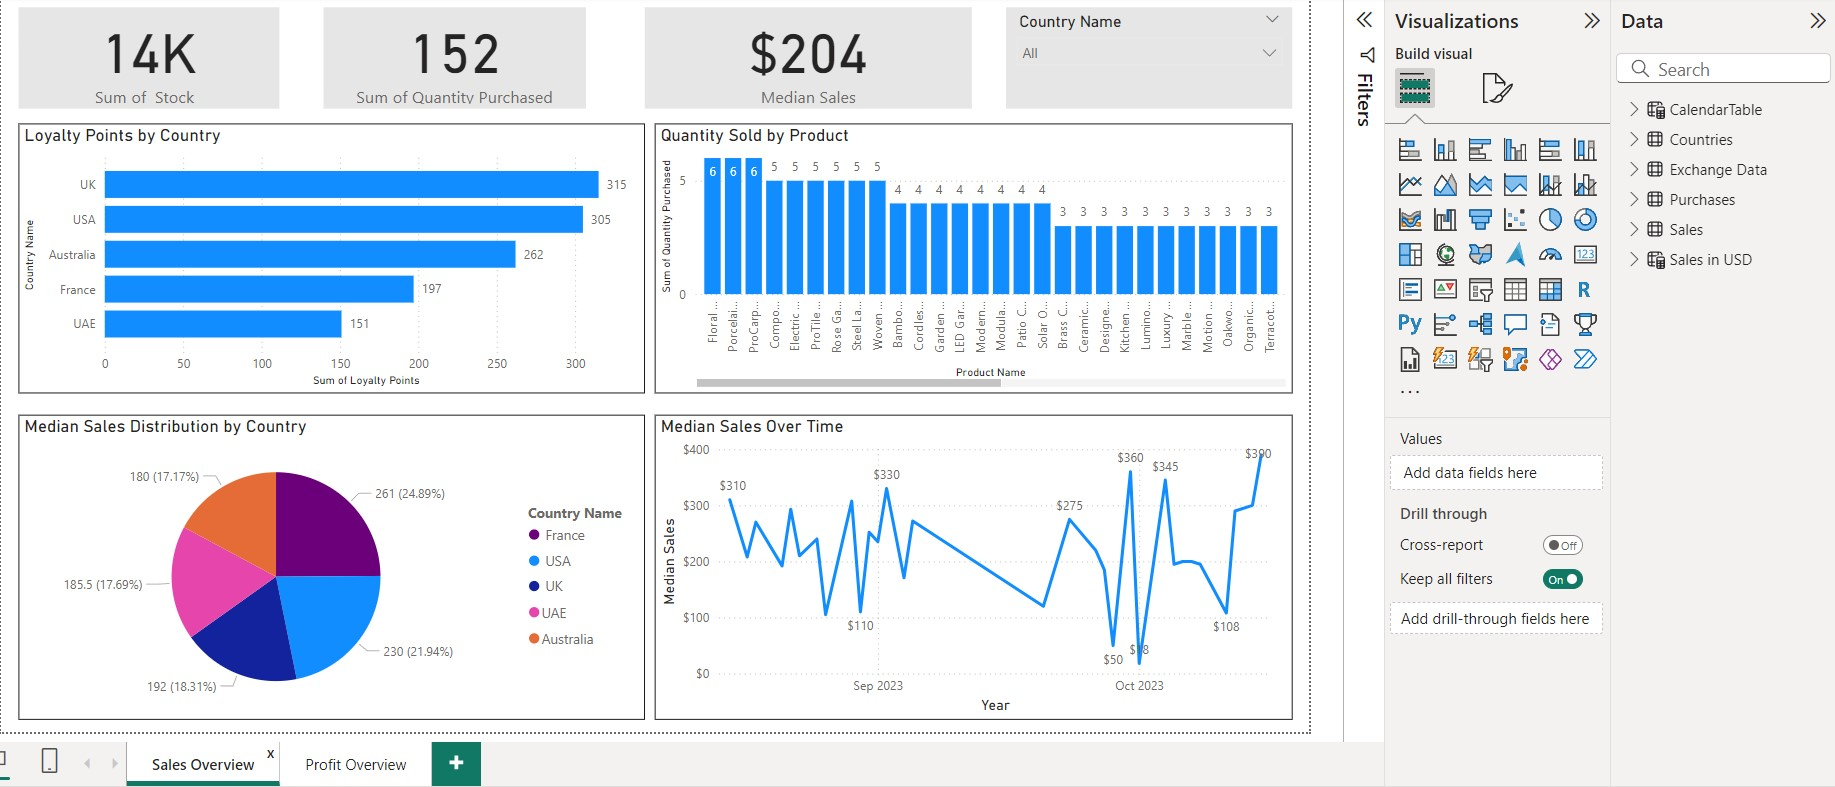

The dashboard page shown, as its layout file describes it:
{"tool":"powerbi","page":{"name":"Sales Overview","canvas":[1280,720],"ordinal":0},"visuals":[{"type":"clusteredBarChart","title":"Loyalty Points by Country","fields":{"Category":["Sales in USD.Country Name"],"Y":["Sum(Sales. Loyalty Points)"]},"box":[17.1,124.7,612.6,264.1],"z":0},{"type":"clusteredColumnChart","title":"Quantity Sold by Product","fields":{"Category":["Sales in USD.Product Name"],"Y":["Sum(Sales.Quantity Purchased)"]},"box":[639.5,124.7,623.6,264.1],"z":1000},{"type":"pieChart","title":"Median Sales Distribution by Country","fields":{"Category":["Sales in USD.Country Name"],"Y":["Sales in USD.Median Sales"]},"box":[17.1,409.6,612.6,298.4],"z":2000},{"type":"lineChart","title":"Median Sales Over Time","fields":{"Y":["Sales in USD.Median Sales"],"Category":["CalendarTable.Date.Variation.Date Hierarchy.Year","CalendarTable.Date.Variation.Date Hierarchy.Quarter","CalendarTable.Date.Variation.Date Hierarchy.Month","CalendarTable.Date.Variation.Date Hierarchy.Day"]},"box":[639.5,409.6,623.6,298.4],"z":3000},{"type":"card","fields":{"Values":["Sum(Sales. Stock  )"]},"box":[17.1,11,255.6,99],"z":4000},{"type":"card","fields":{"Values":["Sum(Sales.Quantity Purchased)"]},"box":[315.5,11,256.8,99],"z":5000},{"type":"card","fields":{"Values":["Sales in USD.Median Sales"]},"box":[629.8,11,320.4,99],"z":6000},{"type":"slicer","fields":{"Values":["Sales in USD.Country Name"]},"box":[983.2,11,280,99],"z":7000}]}

Visuals, with their boxes on the page's 1280x720 design canvas (x1, y1, x2, y2). These are canvas units, not pixel positions in the 1835x787 screenshot, which may show the page scaled, cropped or inside an application window:
"Loyalty Points by Country" clusteredBarChart: BBox(17, 125, 630, 389)
"Quantity Sold by Product" clusteredColumnChart: BBox(640, 125, 1263, 389)
"Median Sales Distribution by Country" pieChart: BBox(17, 410, 630, 708)
"Median Sales Over Time" lineChart: BBox(640, 410, 1263, 708)
card - Sum(Sales. Stock  ): BBox(17, 11, 273, 110)
card - Sum(Sales.Quantity Purchased): BBox(316, 11, 572, 110)
card - Sales in USD.Median Sales: BBox(630, 11, 950, 110)
slicer - Sales in USD.Country Name: BBox(983, 11, 1263, 110)
